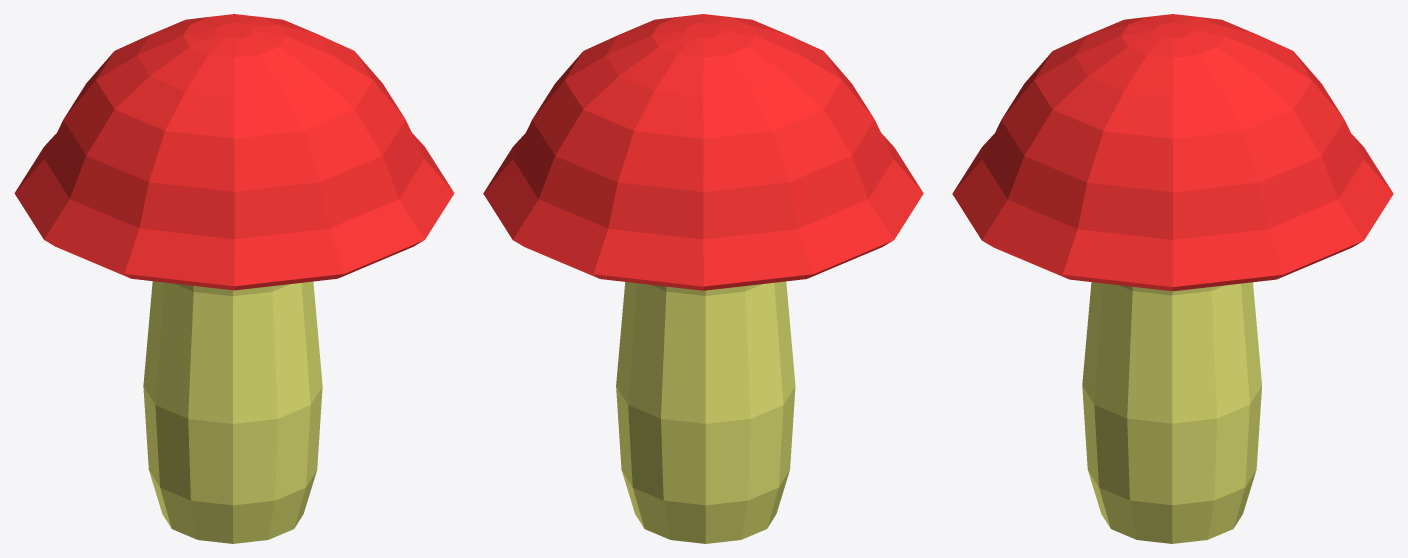
The picture shows the model from 3 angles, left to right: view 1: azimuth 30°, elevation 25°; view 2: azimuth 150°, elevation 25°; view 3: azimuth 270°, elevation 25°; orthographic projection.
Parts seen in each view (by area): view 1: band.001, band; view 2: band.001, band; view 3: band.001, band.
Part boxes in pixels (left/top/right/bottom): band.001: left=14, top=14, right=454, bottom=290; band: left=143, top=281, right=322, bottom=543; band.001: left=483, top=14, right=923, bottom=290; band: left=616, top=281, right=795, bottom=543; band.001: left=952, top=14, right=1393, bottom=291; band: left=1082, top=282, right=1261, bottom=543.
Bounding box in the file's own units: 0.081 × 0.1 × 0.081.
